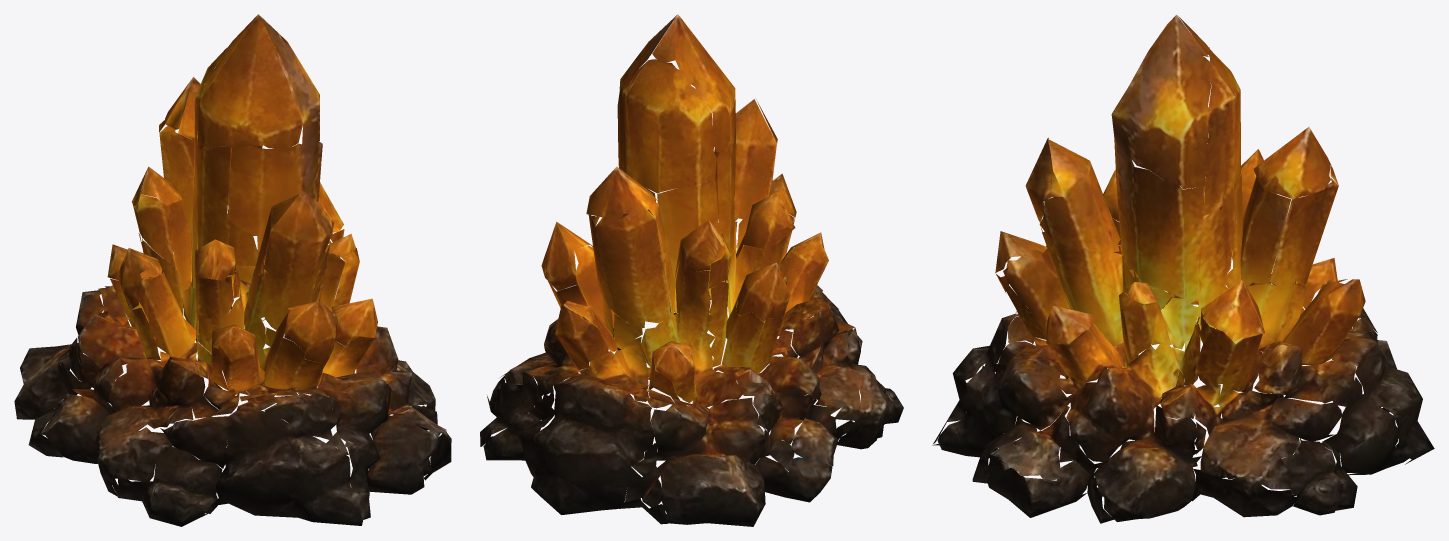
Rendered from dep_amber.glb.
The picture shows the model from 3 angles, left to right: view 1: azimuth 30°, elevation 25°; view 2: azimuth 150°, elevation 25°; view 3: azimuth 270°, elevation 25°; orthographic projection. The views are drawn at different scales.
Parts seen in each view (by area): view 1: tripo_node_a40f1658-026d-4f8f-a344-535d4f3f41cb; view 2: tripo_node_a40f1658-026d-4f8f-a344-535d4f3f41cb; view 3: tripo_node_a40f1658-026d-4f8f-a344-535d4f3f41cb.
Part boxes in pixels (bbox=[...]): tripo_node_a40f1658-026d-4f8f-a344-535d4f3f41cb: bbox=[14, 14, 451, 526]; tripo_node_a40f1658-026d-4f8f-a344-535d4f3f41cb: bbox=[480, 14, 903, 526]; tripo_node_a40f1658-026d-4f8f-a344-535d4f3f41cb: bbox=[932, 15, 1434, 523].
Bounding box in the file's own units: 0.8494 × 1 × 1.03.
Materials: 1 (1 with a texture image).
